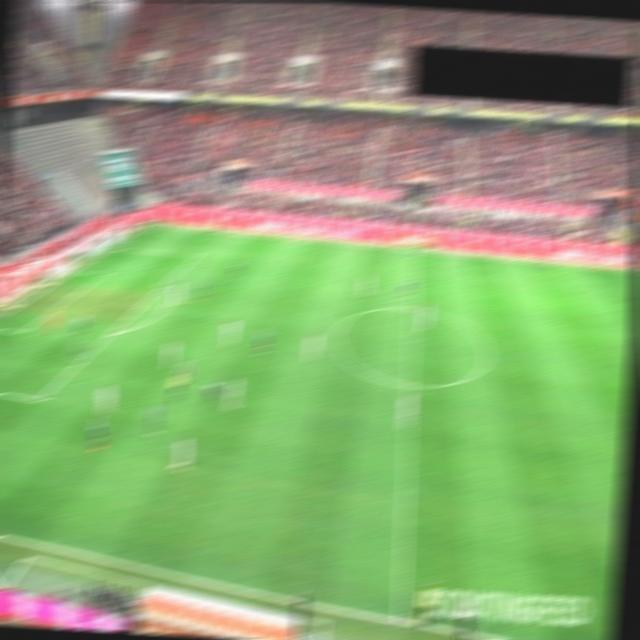bigarea_bottom_inner: (29, 395, 47, 406)
bigarea_top_inner: (187, 250, 205, 261)
bigarea_top_outter: (101, 242, 121, 254)
bottom_arc_area_intersection: (100, 329, 118, 340)
corner: (138, 219, 158, 231)
halfcircle_bottom: (399, 378, 420, 392)
halfcircle_top: (403, 302, 422, 315)
midline_bottom_intersection: (389, 613, 411, 629)
midline_top_intersection: (405, 244, 424, 256)
smallarea_bottom_inner: (12, 327, 31, 339)
smallarea_top_inner: (93, 270, 112, 281)
smallarea_top_outter: (63, 266, 82, 278)
top_arc_area_intersection: (153, 281, 172, 293)
